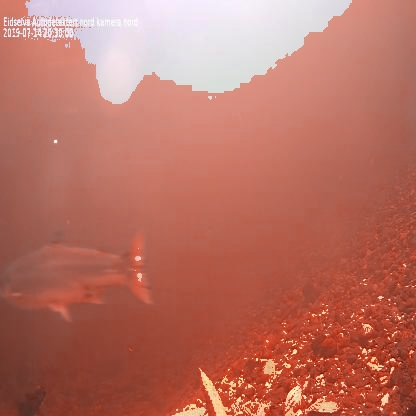salmon: (0, 218, 160, 325)
